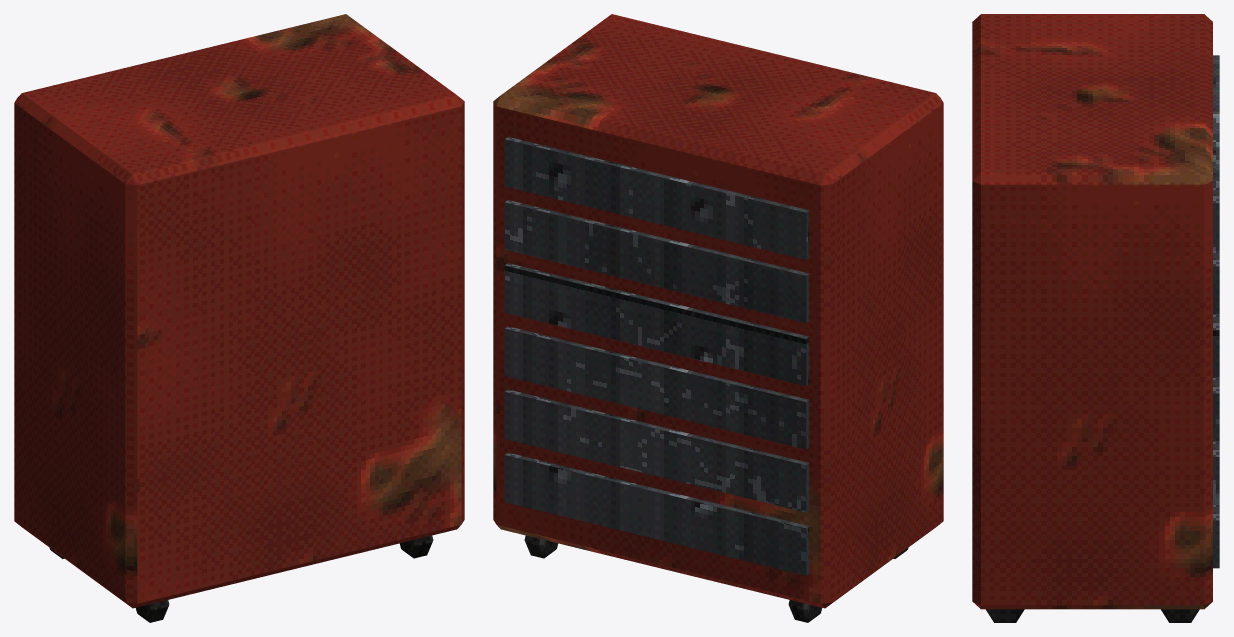
The model's file is int_tool_cabinet.glb.
The picture shows the model from 3 angles, left to right: view 1: azimuth 30°, elevation 25°; view 2: azimuth 150°, elevation 25°; view 3: azimuth 270°, elevation 25°; orthographic projection.
Visible parts, largest first — view 1: int_tool_cabinet_mesh; view 2: int_tool_cabinet_mesh; view 3: int_tool_cabinet_mesh.
Part boxes in pixels (x1,y1,x2,y2): int_tool_cabinet_mesh: (14,14,464,622); int_tool_cabinet_mesh: (493,14,943,622); int_tool_cabinet_mesh: (972,14,1219,622).
Size of what is drawn, in the model's own units: 0.9 by 1.16 by 0.565.
3 materials, 3 textured.
